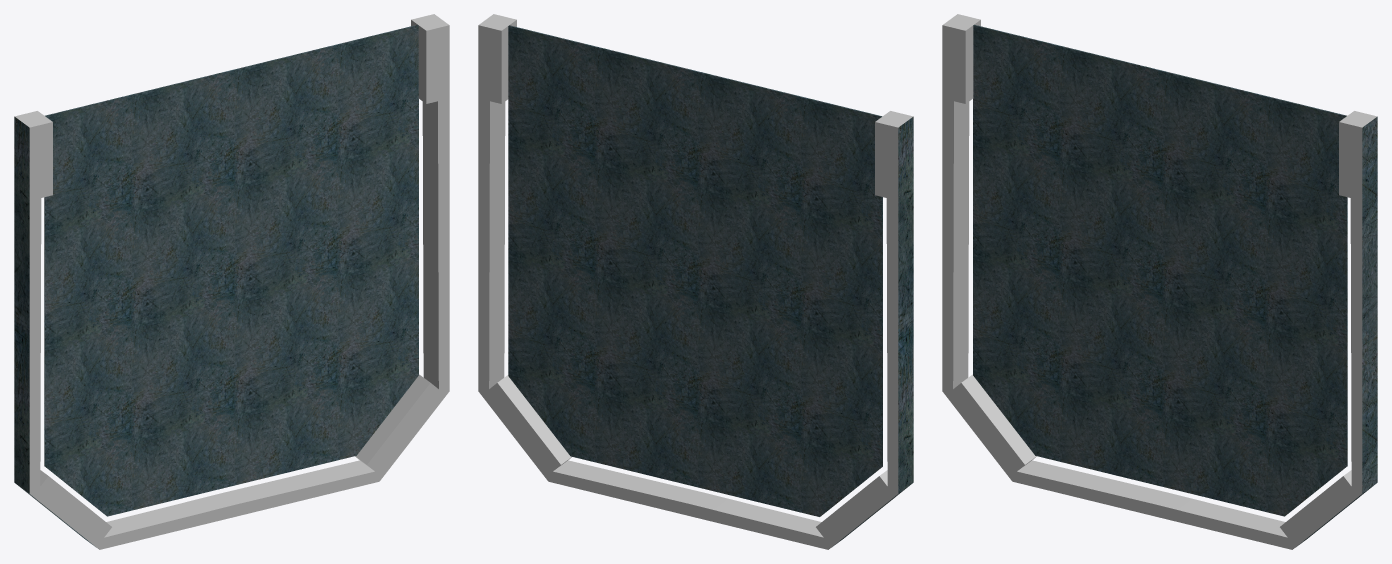
File: Lab_el_door.FBX
3 renders of one model, left to right at view 1: azimuth 30°, elevation 25°; view 2: azimuth 150°, elevation 25°; view 3: azimuth 330°, elevation 25°, orthographic.
Visible parts, largest first — view 1: Object004, Object002; view 2: Object004, Object002; view 3: Object004, Object002.
Part boxes in pixels (x1,y1,x2,y2): Object004: (44, 24, 418, 516); Object002: (14, 14, 449, 549); Object004: (508, 25, 882, 516); Object002: (478, 14, 913, 549); Object004: (973, 24, 1347, 516); Object002: (942, 14, 1377, 549).
Size of the model in its own units: 3 by 0.1891 by 3.
